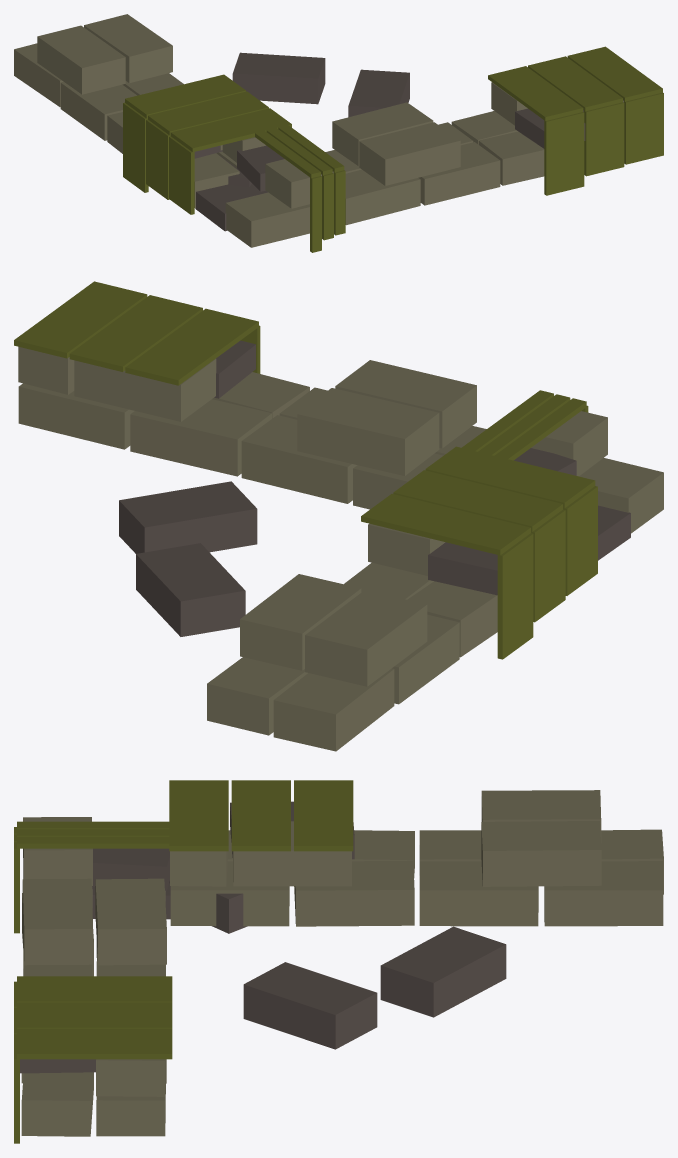
File: SM_PretilEsquina_v4_Red_e2_MuyDanado_LOD0.fbx
3 renders of one model, top to bottom at view 1: azimuth 30°, elevation 25°; view 2: azimuth 150°, elevation 25°; view 3: azimuth 270°, elevation 25°, orthographic. The views are drawn at different scales.
Parts seen in each view (by area): view 1: SM_pretil_azotea_v38_LOD0; view 2: SM_pretil_azotea_v38_LOD0; view 3: SM_pretil_azotea_v38_LOD0.
Part boxes in pixels (box(x1,y1,x2,y2)): SM_pretil_azotea_v38_LOD0: box(14, 14, 663, 252); SM_pretil_azotea_v38_LOD0: box(14, 281, 663, 751); SM_pretil_azotea_v38_LOD0: box(14, 780, 663, 1143).
Size of the model in its own units: 4.44 by 0.7939 by 4.44.
